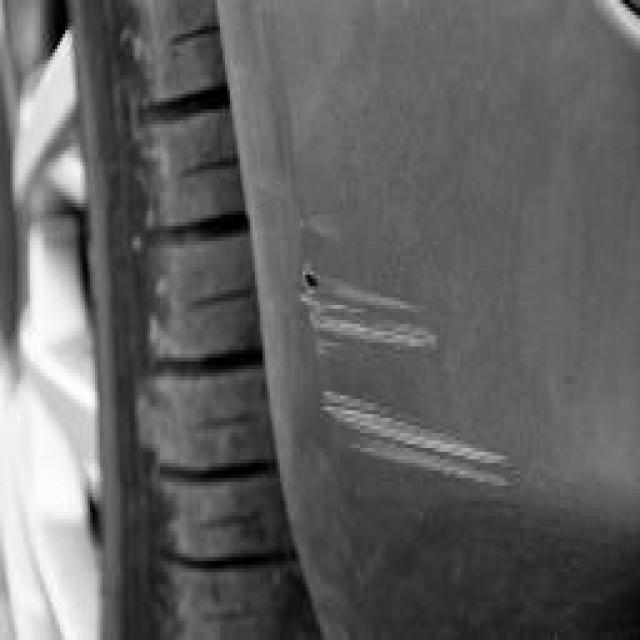Bumper: (248, 8, 588, 632)
